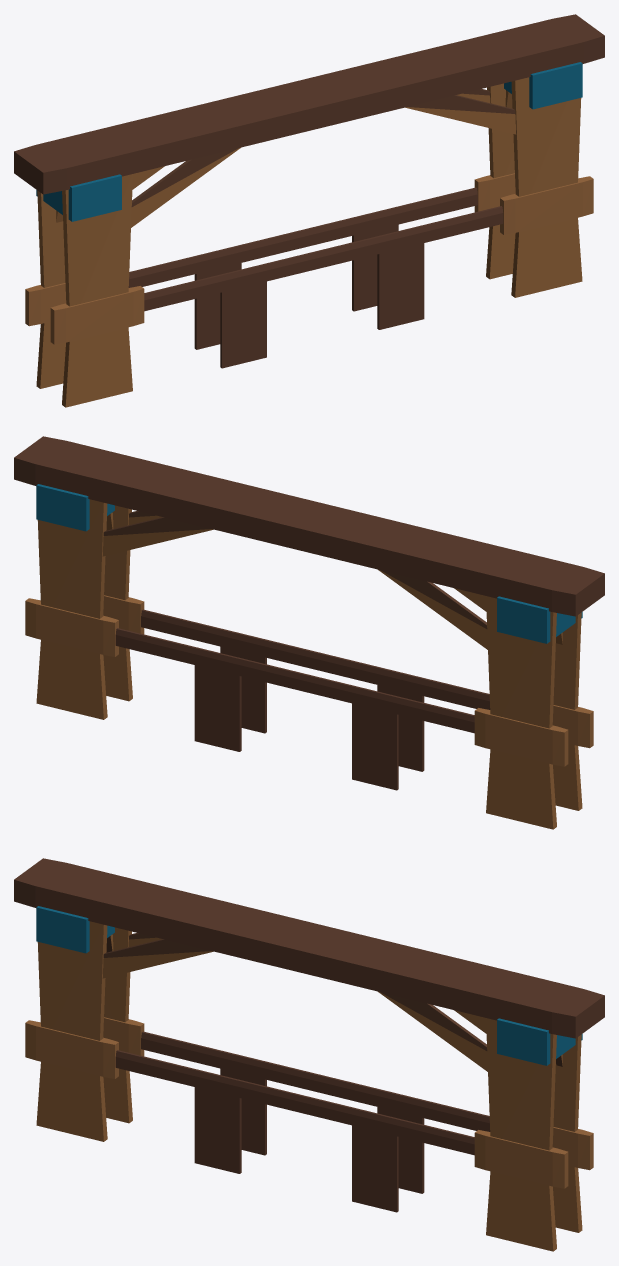
The model's file is quay-fence-sky.glb.
The picture shows the model from 3 angles, top to bottom: view 1: azimuth 30°, elevation 25°; view 2: azimuth 150°, elevation 25°; view 3: azimuth 330°, elevation 25°; orthographic projection.
Parts seen in each view (by area): view 1: quay-fence-sky; view 2: quay-fence-sky; view 3: quay-fence-sky.
Boxes of the visible parts, box(x1,y1,x2,y2) form: quay-fence-sky: box(14, 14, 604, 407); quay-fence-sky: box(14, 436, 604, 829); quay-fence-sky: box(14, 858, 604, 1251).
Bounding box in the file's own units: 2.25 × 0.92 × 0.2486.
